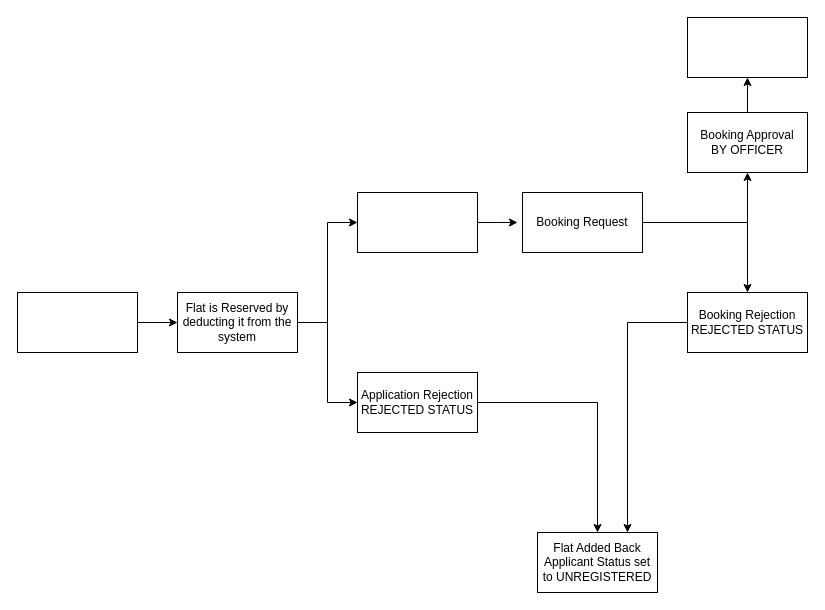
This 825x610 diagram has some shape labels left out. The shapes that lost their labels are listed below. From the top down, each one's centre as x and y in pixels, then its label:
At (747,47): "BOOKED Status".
At (417,222): "Application Approval REGISTERED STATUS MANAGER".
At (77,322): "Applicant Book Flat".
